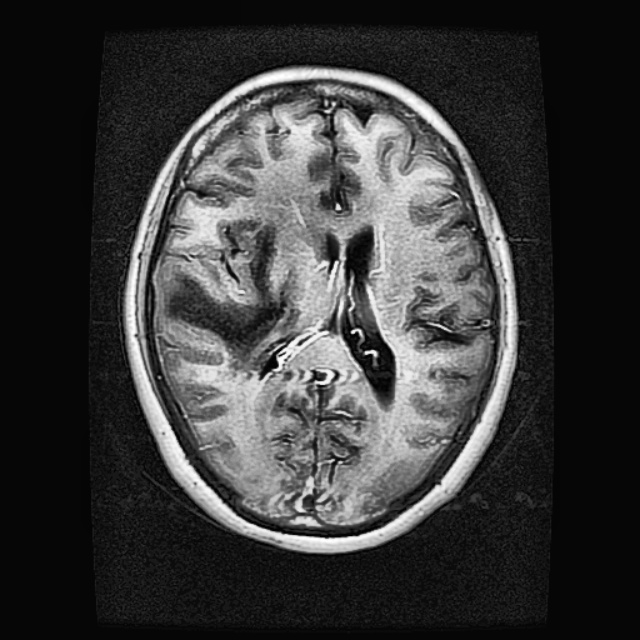Glioma: (165, 228, 332, 372)
